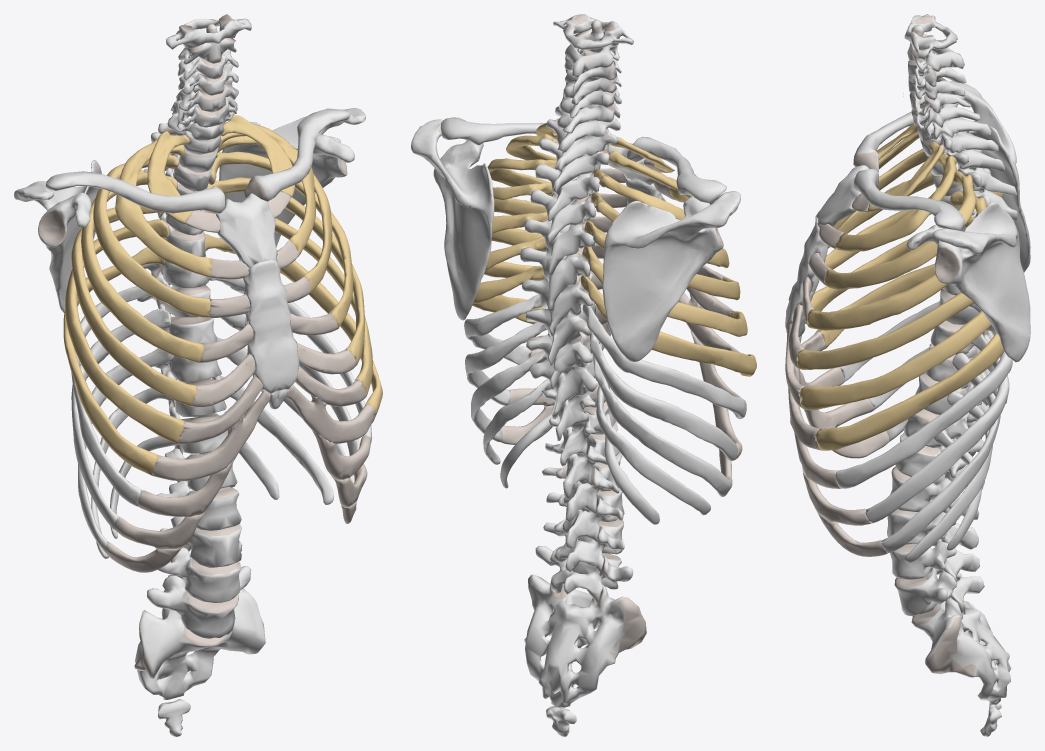
Rendered from chest_main (2).fbx.
3 renders of one model, left to right at view 1: azimuth 30°, elevation 25°; view 2: azimuth 150°, elevation 25°; view 3: azimuth 270°, elevation 25°, orthographic. The views are drawn at different scales.
Parts seen in each view (by area): view 1: Body of sternum.002; view 2: Body of sternum.002; view 3: Body of sternum.002.
Part boxes in pixels (box(x1,y1,x2,y2)): Body of sternum.002: box(14, 14, 382, 736); Body of sternum.002: box(411, 14, 756, 736); Body of sternum.002: box(785, 14, 1030, 736).
Size of the model in its own units: 34.71 by 72.24 by 22.56.
